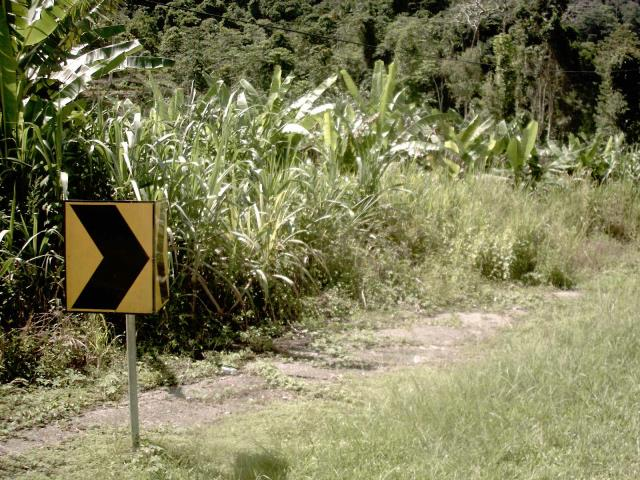traffic_sign: (51, 183, 163, 328)
